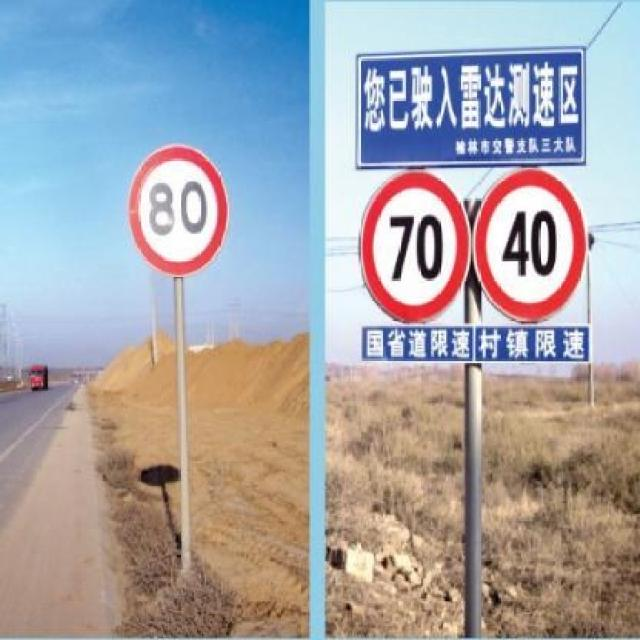forb_speed_over_40: (477, 171, 585, 320)
forb_speed_over_70: (365, 173, 469, 316)
forb_speed_over_80: (132, 148, 228, 271)
